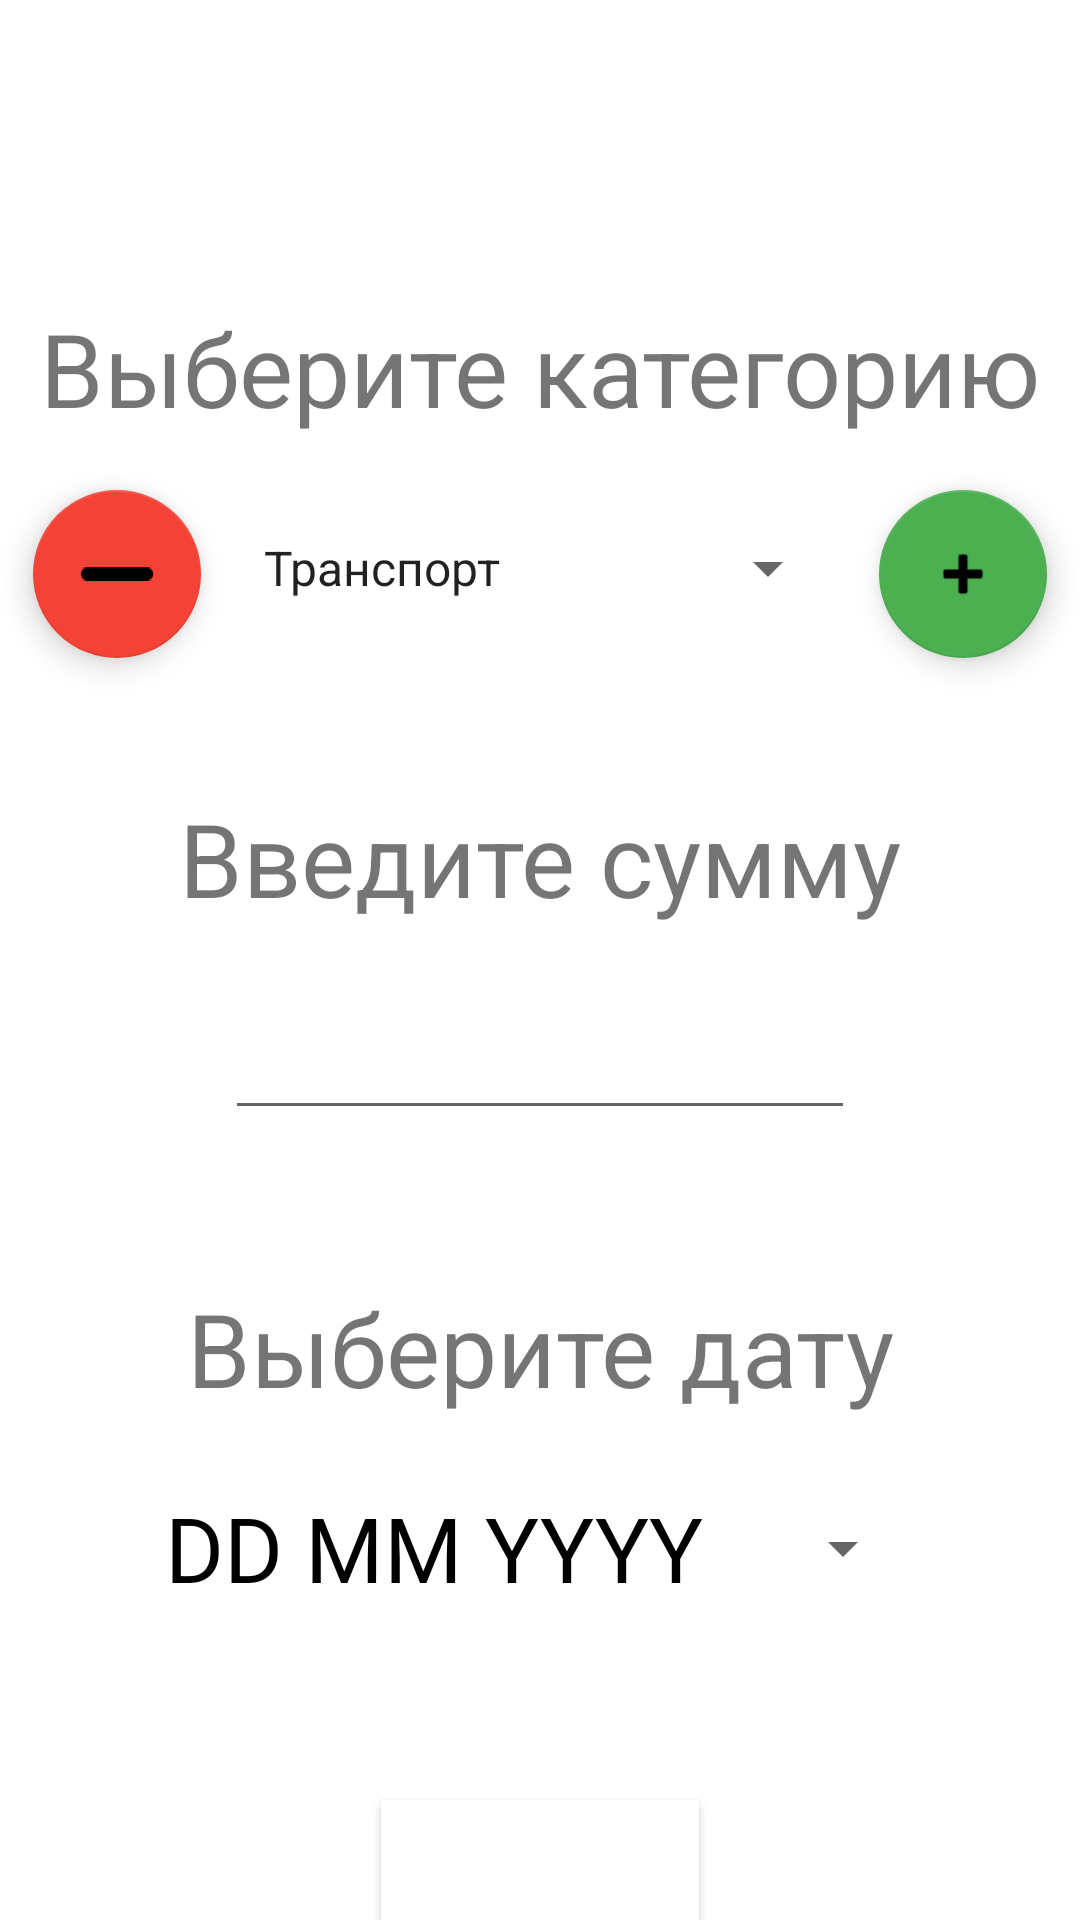

Icons on this 1080×1920 Android screen, each with the point to tap as [x,y]:
add: [963,574]
